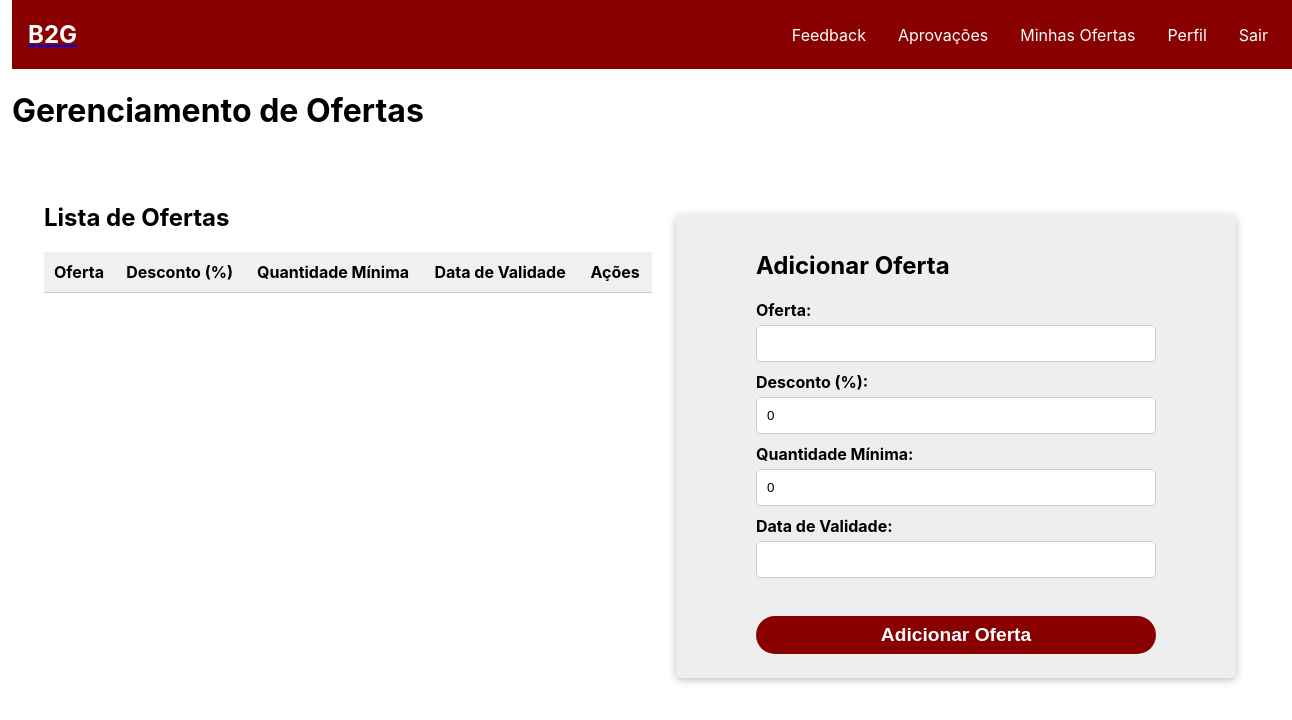
Test: ManageOffers component › adds a new offer
This screenshot has width=1292, height=720.
Type "Test Offer" into the field named "Oferta". click: x=956, y=343
box: [756,325,1156,362]
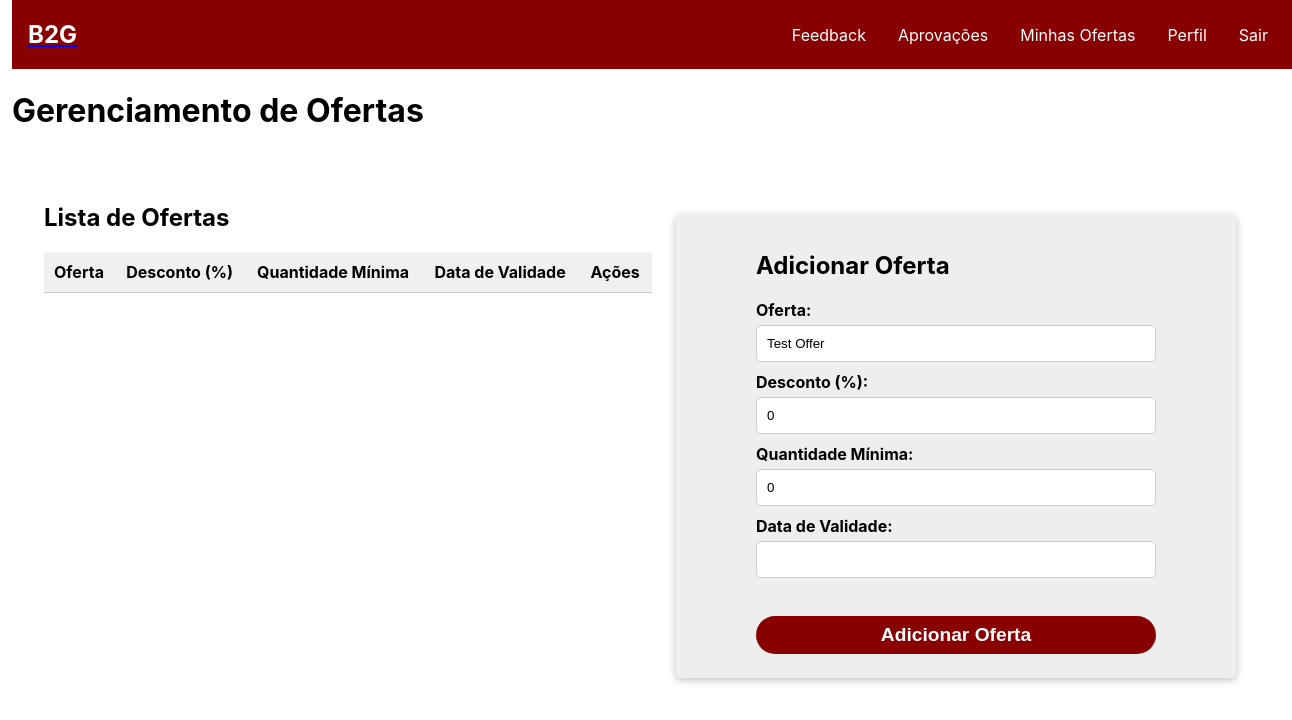
Replace the text in the number field named "Desconto (%)" with "10". click: x=956, y=415
box: [756,397,1156,434]
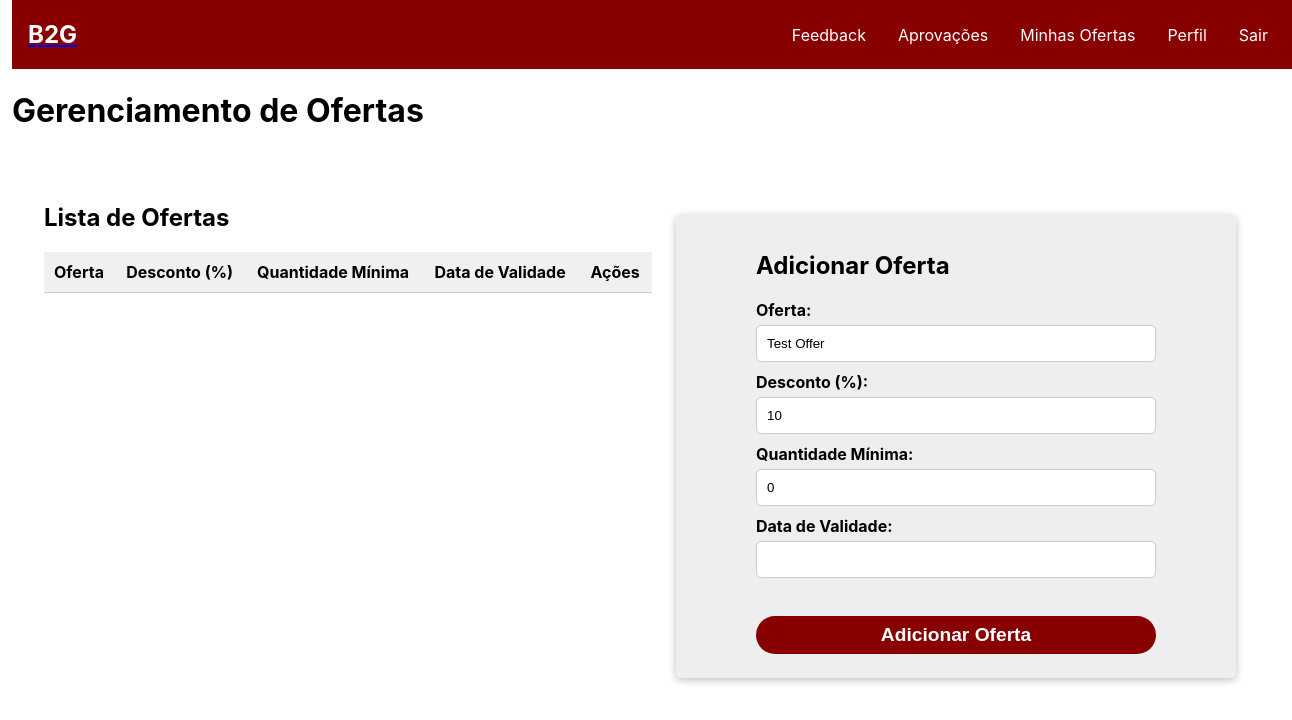
Replace the text in the number field named "Quantidade Mínima" with "5". click: x=956, y=487
box: [756,469,1156,506]
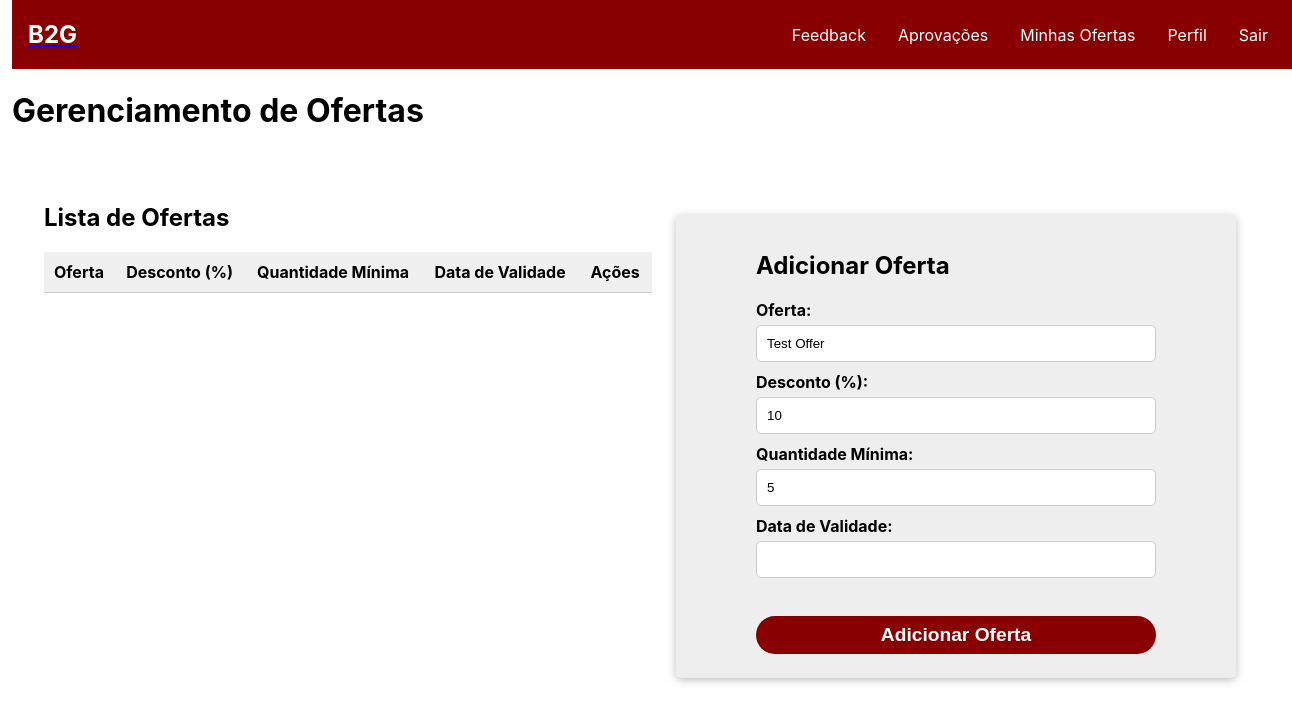
Type "2023-01-15" into the field named "Data de Validade". click: x=956, y=559
box: [756,541,1156,578]
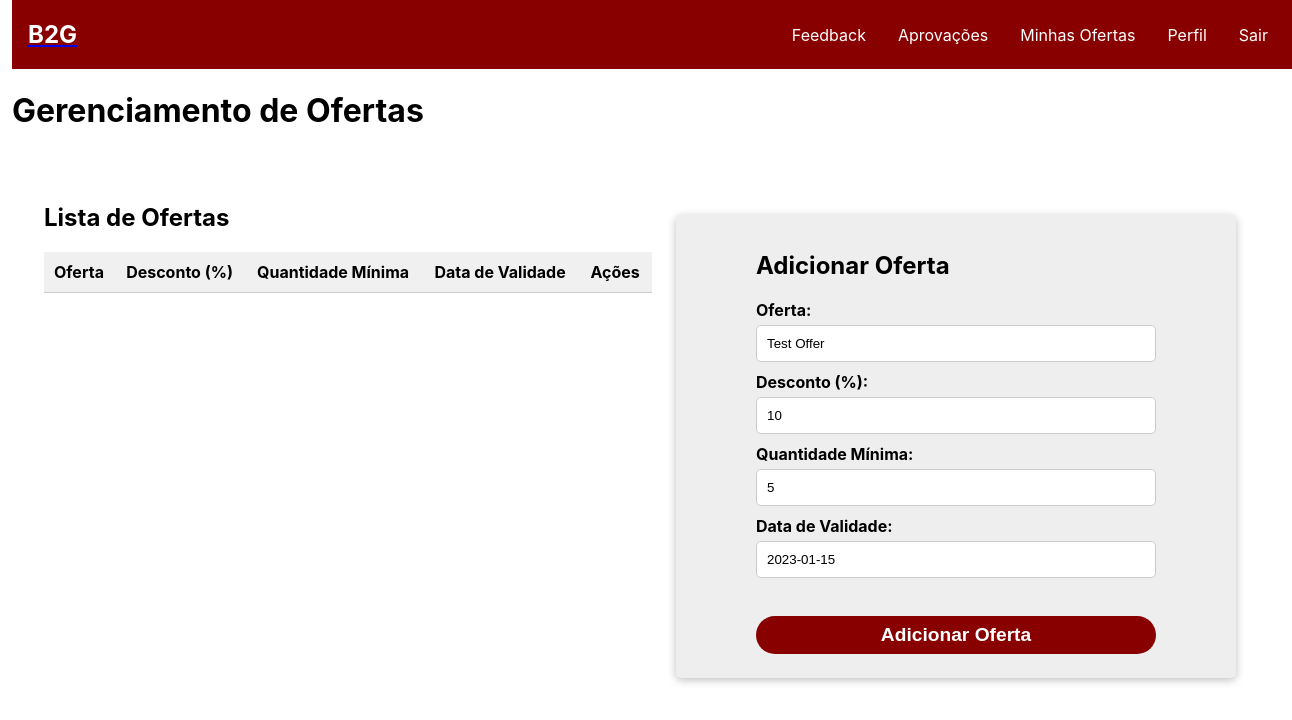
Click the button "Adicionar Oferta". click: x=956, y=635
box: [756,616,1156,654]
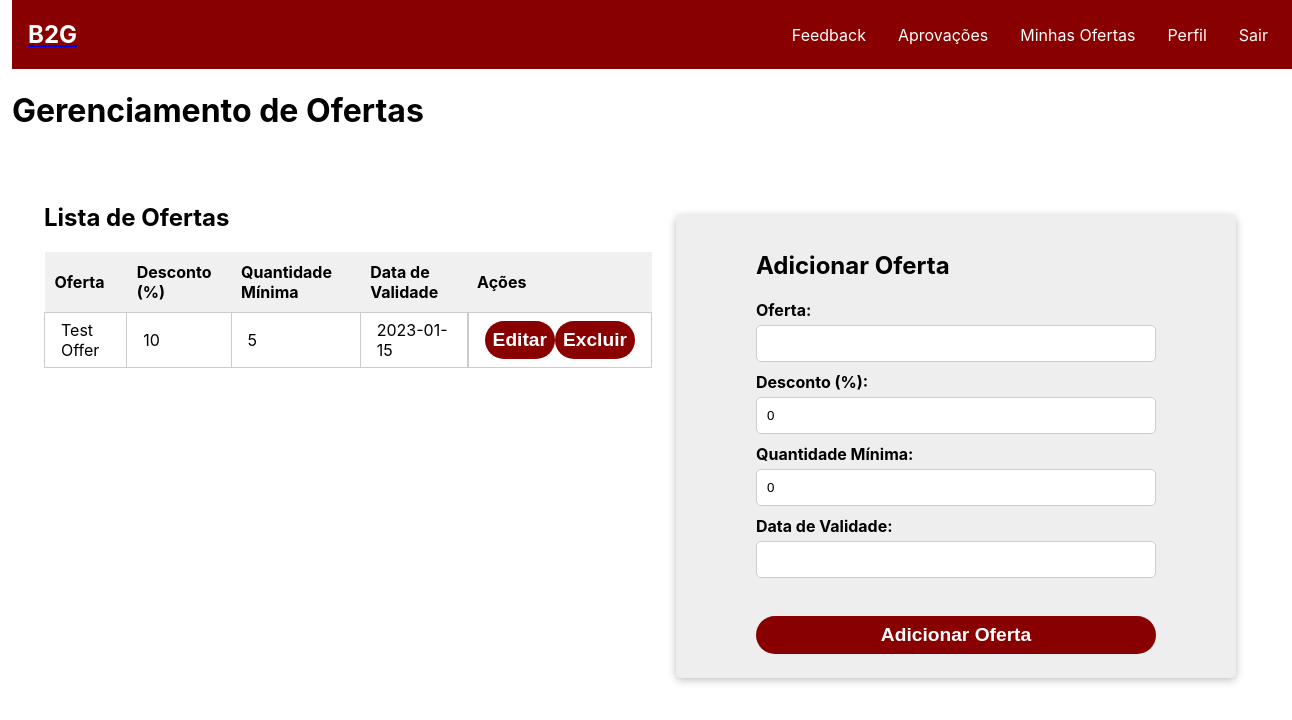
Result: the text "Test Offer" is shown at [44,312,127,367]
Result: the text "10" is shown at [127,312,231,367]
Result: the text "5" is shown at [231,312,360,367]
